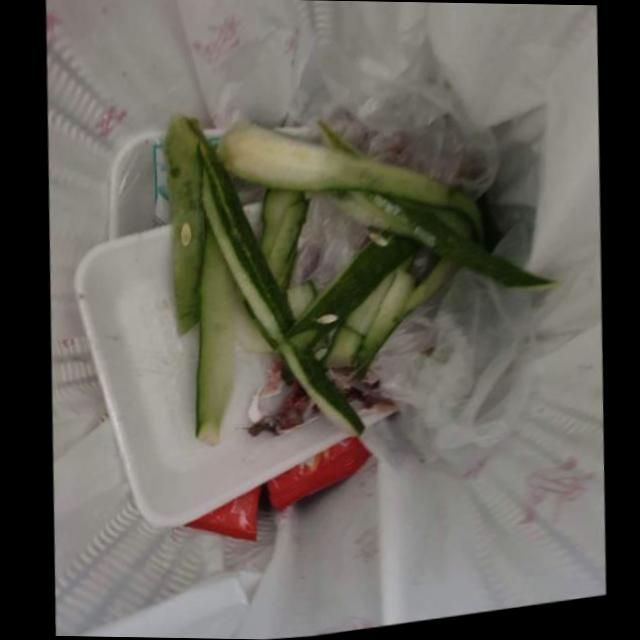vo_rau_cu: (199, 163, 413, 443), (213, 126, 551, 299), (324, 256, 443, 381), (157, 118, 206, 342), (192, 238, 234, 453), (257, 194, 306, 295)
xop: (70, 229, 346, 533)
